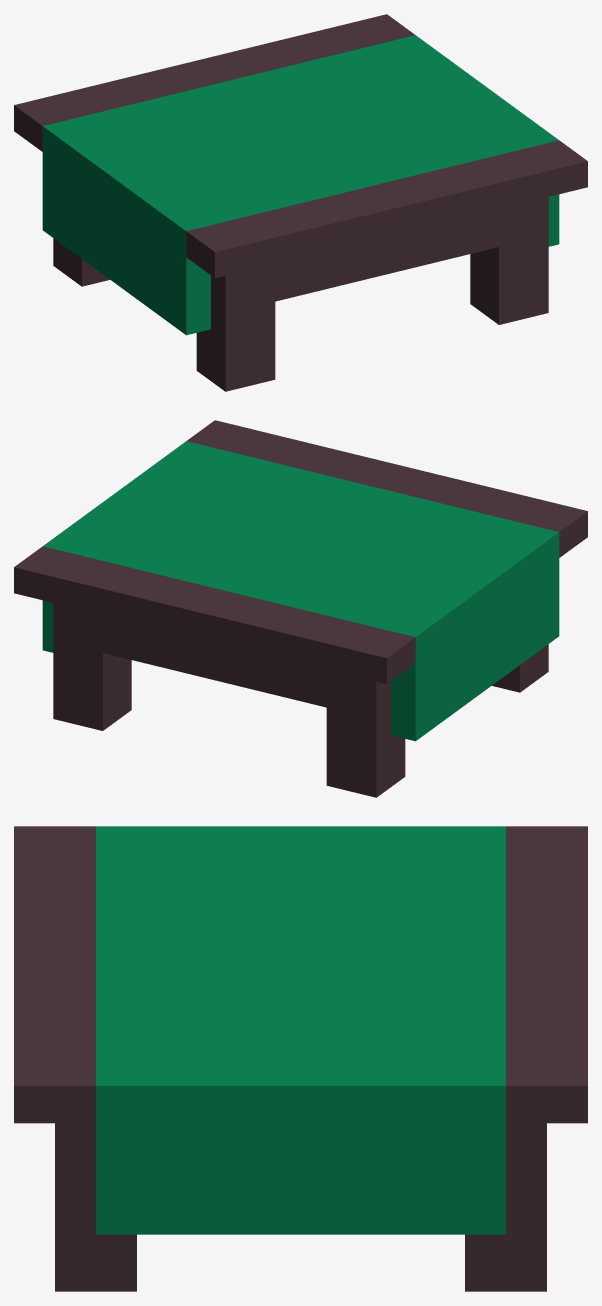
The model's file is small_table_c_green.obj.
3 renders of one model, top to bottom at view 1: azimuth 30°, elevation 25°; view 2: azimuth 150°, elevation 25°; view 3: azimuth 270°, elevation 25°, orthographic. The views are drawn at different scales.
Size of the model in its own units: 1.5 by 0.6 by 1.4.
1 material, 1 textured.
